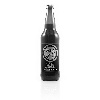beer: (40, 3, 59, 86)
